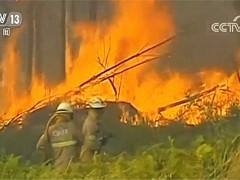fire: (1, 2, 238, 123)
